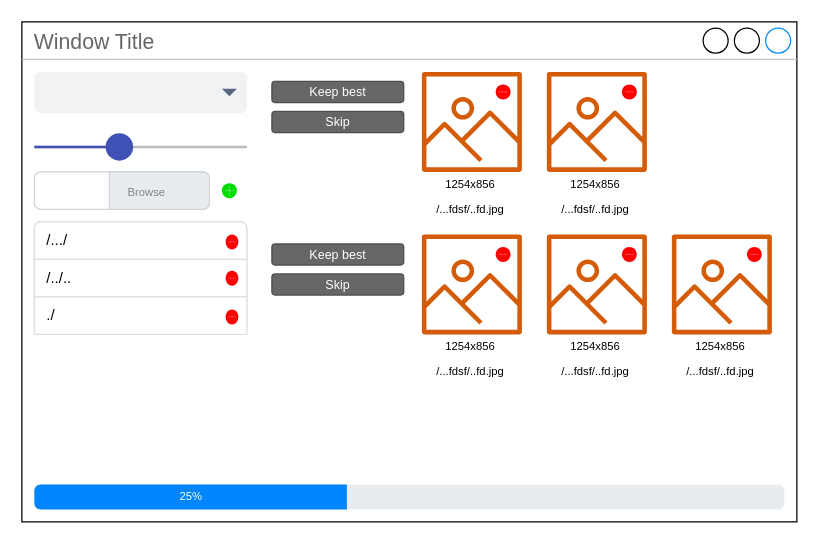
This 819x544 diagram has some shape labels left out. Here are the shapes that lost their labels. From the top down, the centre of each, then its label:
At (x=140, y=91): "PHash".
At (x=121, y=190): "Choose file".
